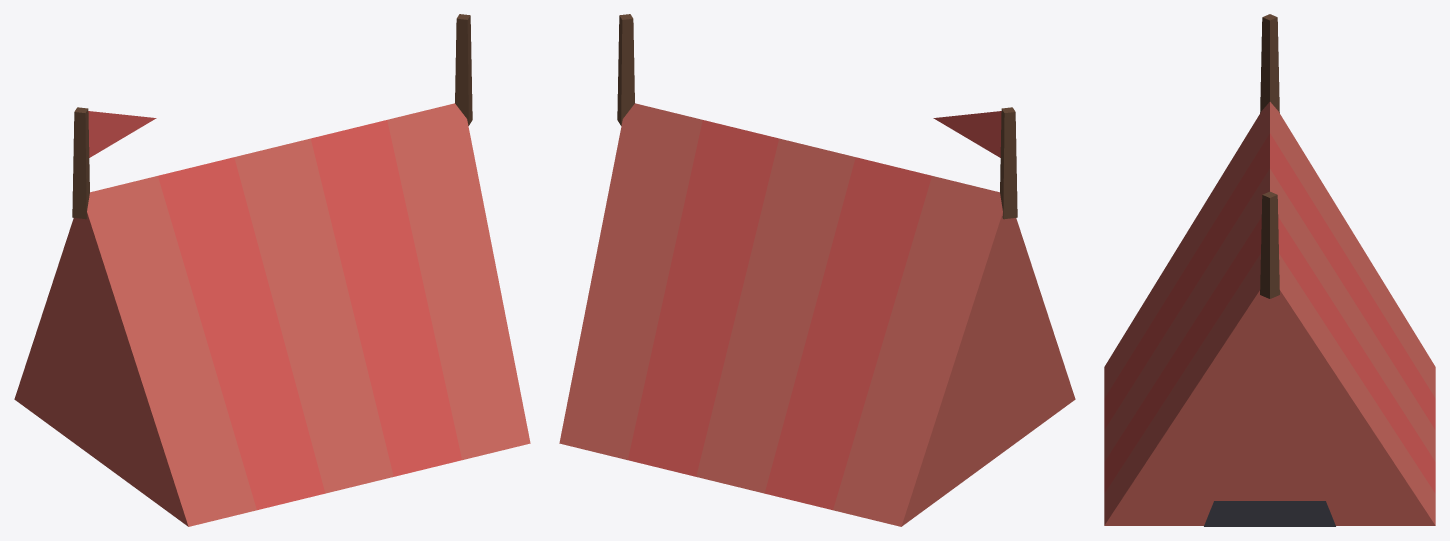
Rendered from deco_desert_tent.obj.
The picture shows the model from 3 angles, left to right: view 1: azimuth 30°, elevation 25°; view 2: azimuth 150°, elevation 25°; view 3: azimuth 270°, elevation 25°; orthographic projection. The views are drawn at different scales.
Parts seen in each view (by area): view 1: deco_desert_tent; view 2: deco_desert_tent; view 3: deco_desert_tent.
Boxes of the visible parts, left/top/right/bottom form: deco_desert_tent: left=14, top=14, right=530, bottom=526; deco_desert_tent: left=559, top=14, right=1075, bottom=526; deco_desert_tent: left=1104, top=14, right=1435, bottom=526.
Bounding box in the file's own units: 0.0398 × 0.034 × 0.03.
1 material, 1 textured.
